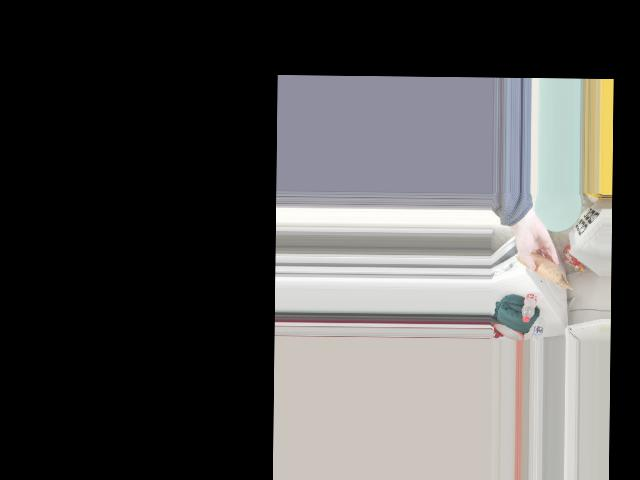sweet_potato: (522, 254, 558, 280)
